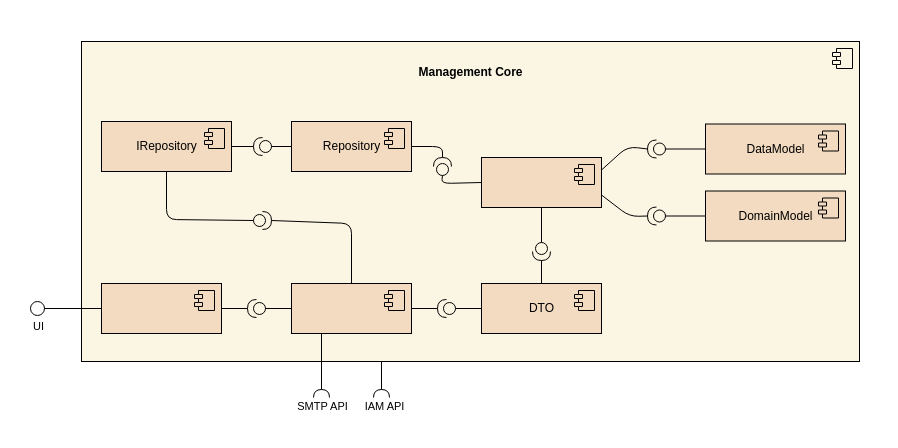
This 898x448 diagram has some shape labels left out. Here are the shapes that lost their labels. From the top down, the centre of each, then its label:
At point (541, 182): "Mapper".
At point (161, 308): "Controller".
At point (351, 308): "Service".
